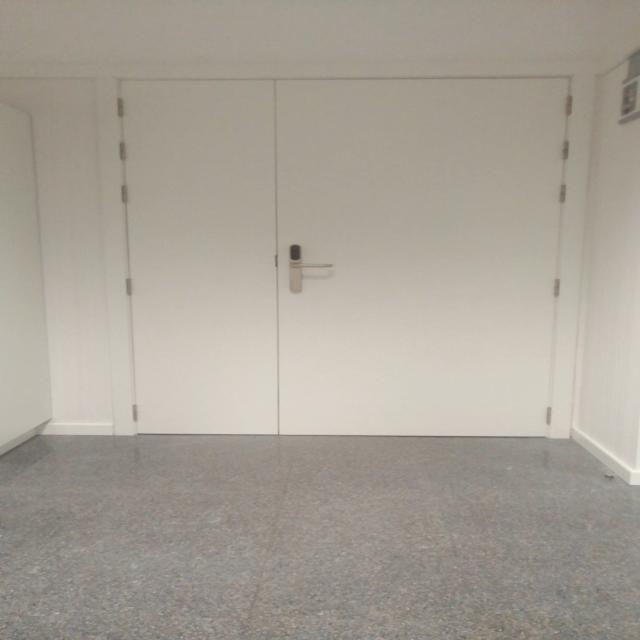door_handle: (288, 262, 338, 269)
